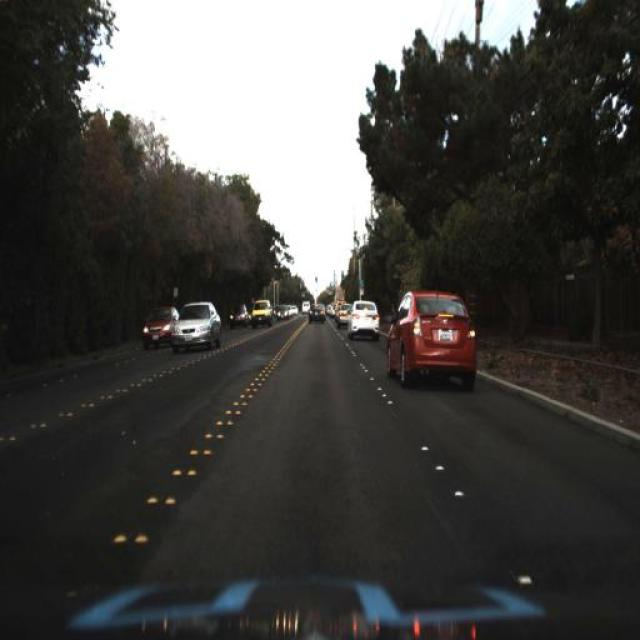car: (383, 287, 482, 392), (168, 296, 224, 359), (345, 296, 384, 342), (140, 303, 178, 349), (247, 295, 272, 335), (226, 298, 249, 332), (332, 299, 357, 329), (306, 300, 326, 329), (298, 294, 312, 318)
